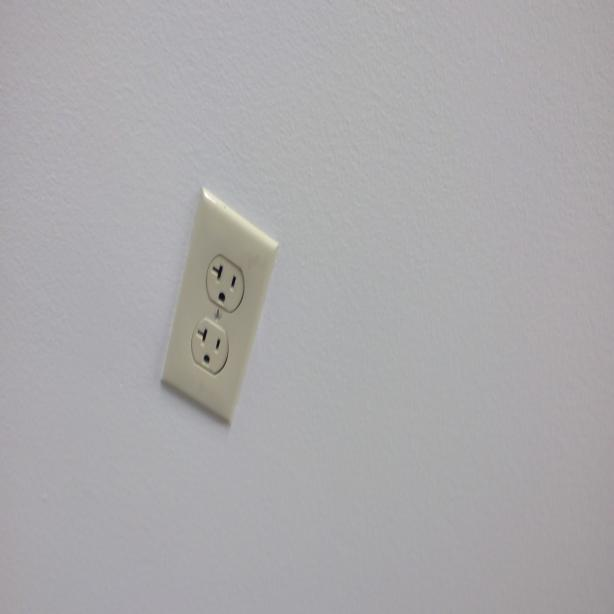typeb: (207, 251, 244, 308), (196, 320, 225, 370)
